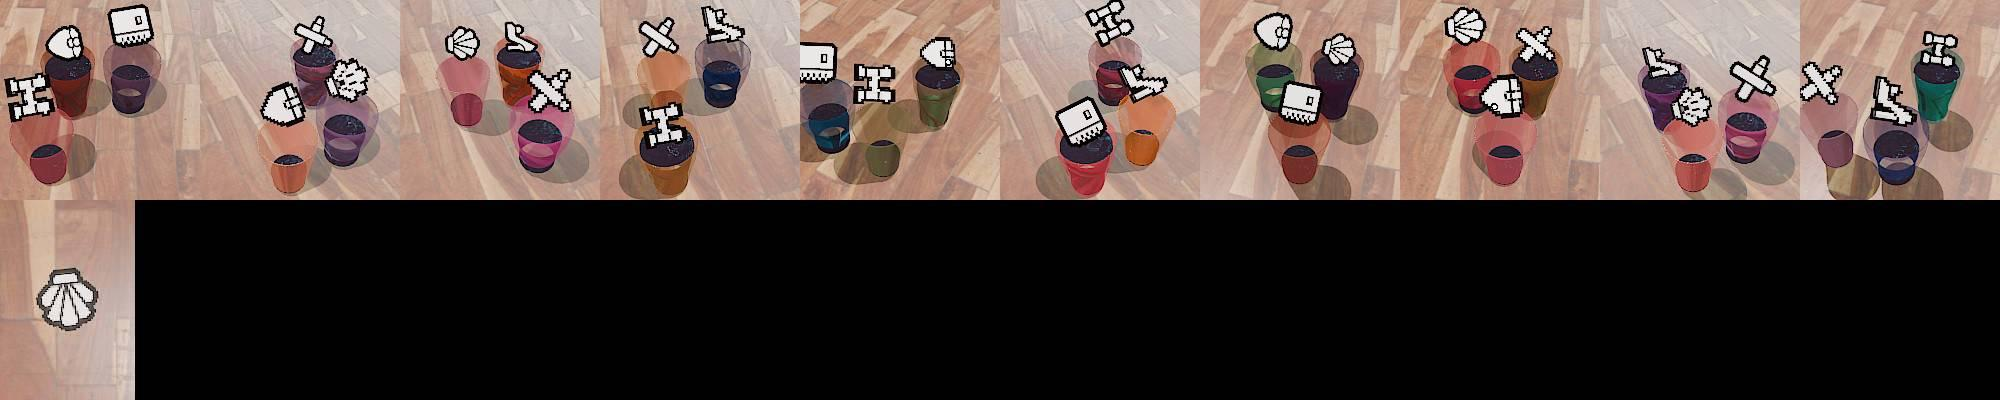icon: (35, 267, 100, 330), (1055, 95, 1108, 146), (4, 72, 55, 122), (639, 99, 688, 149), (1869, 74, 1914, 127), (1084, 0, 1133, 47), (1729, 55, 1777, 102), (259, 81, 305, 127), (107, 3, 154, 48), (326, 56, 371, 102), (526, 69, 572, 114), (1478, 75, 1526, 118), (1118, 63, 1169, 103), (852, 62, 897, 107), (1279, 79, 1323, 125), (1798, 60, 1842, 104), (1515, 22, 1557, 68), (293, 16, 336, 59), (701, 4, 746, 45), (637, 16, 679, 58), (1672, 86, 1714, 127), (799, 41, 838, 85), (1444, 6, 1486, 46), (1254, 12, 1293, 51), (1642, 46, 1682, 82), (444, 25, 481, 62), (45, 26, 85, 60), (919, 35, 957, 70), (1320, 31, 1356, 67), (1921, 30, 1959, 61), (503, 21, 537, 52)
